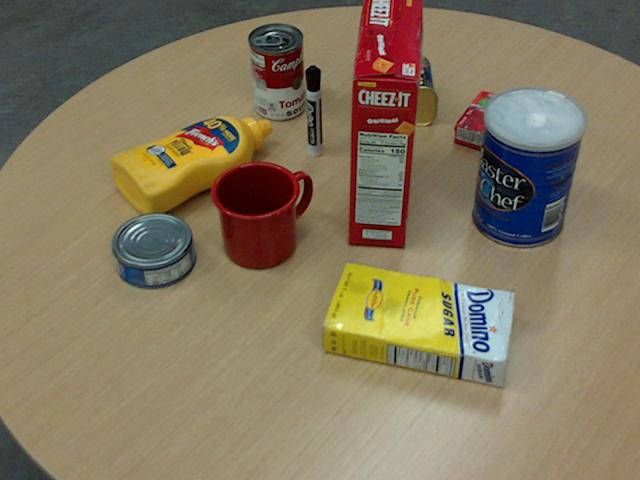cracker_box: (345, 0, 423, 246)
gelatin_box: (453, 89, 534, 156)
large_marker: (305, 65, 320, 156)
master_chef_can: (472, 87, 585, 248)
mug: (209, 160, 310, 268)
mustard_bottle: (109, 115, 271, 215)
potted_meat_can: (356, 55, 438, 125)
sugar_box: (320, 263, 516, 387)
tomato_soup_can: (248, 21, 304, 119)
tuna_fish_can: (110, 212, 194, 288)
